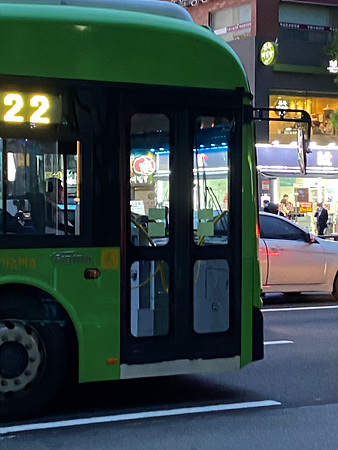entrance: (119, 86, 239, 358)
